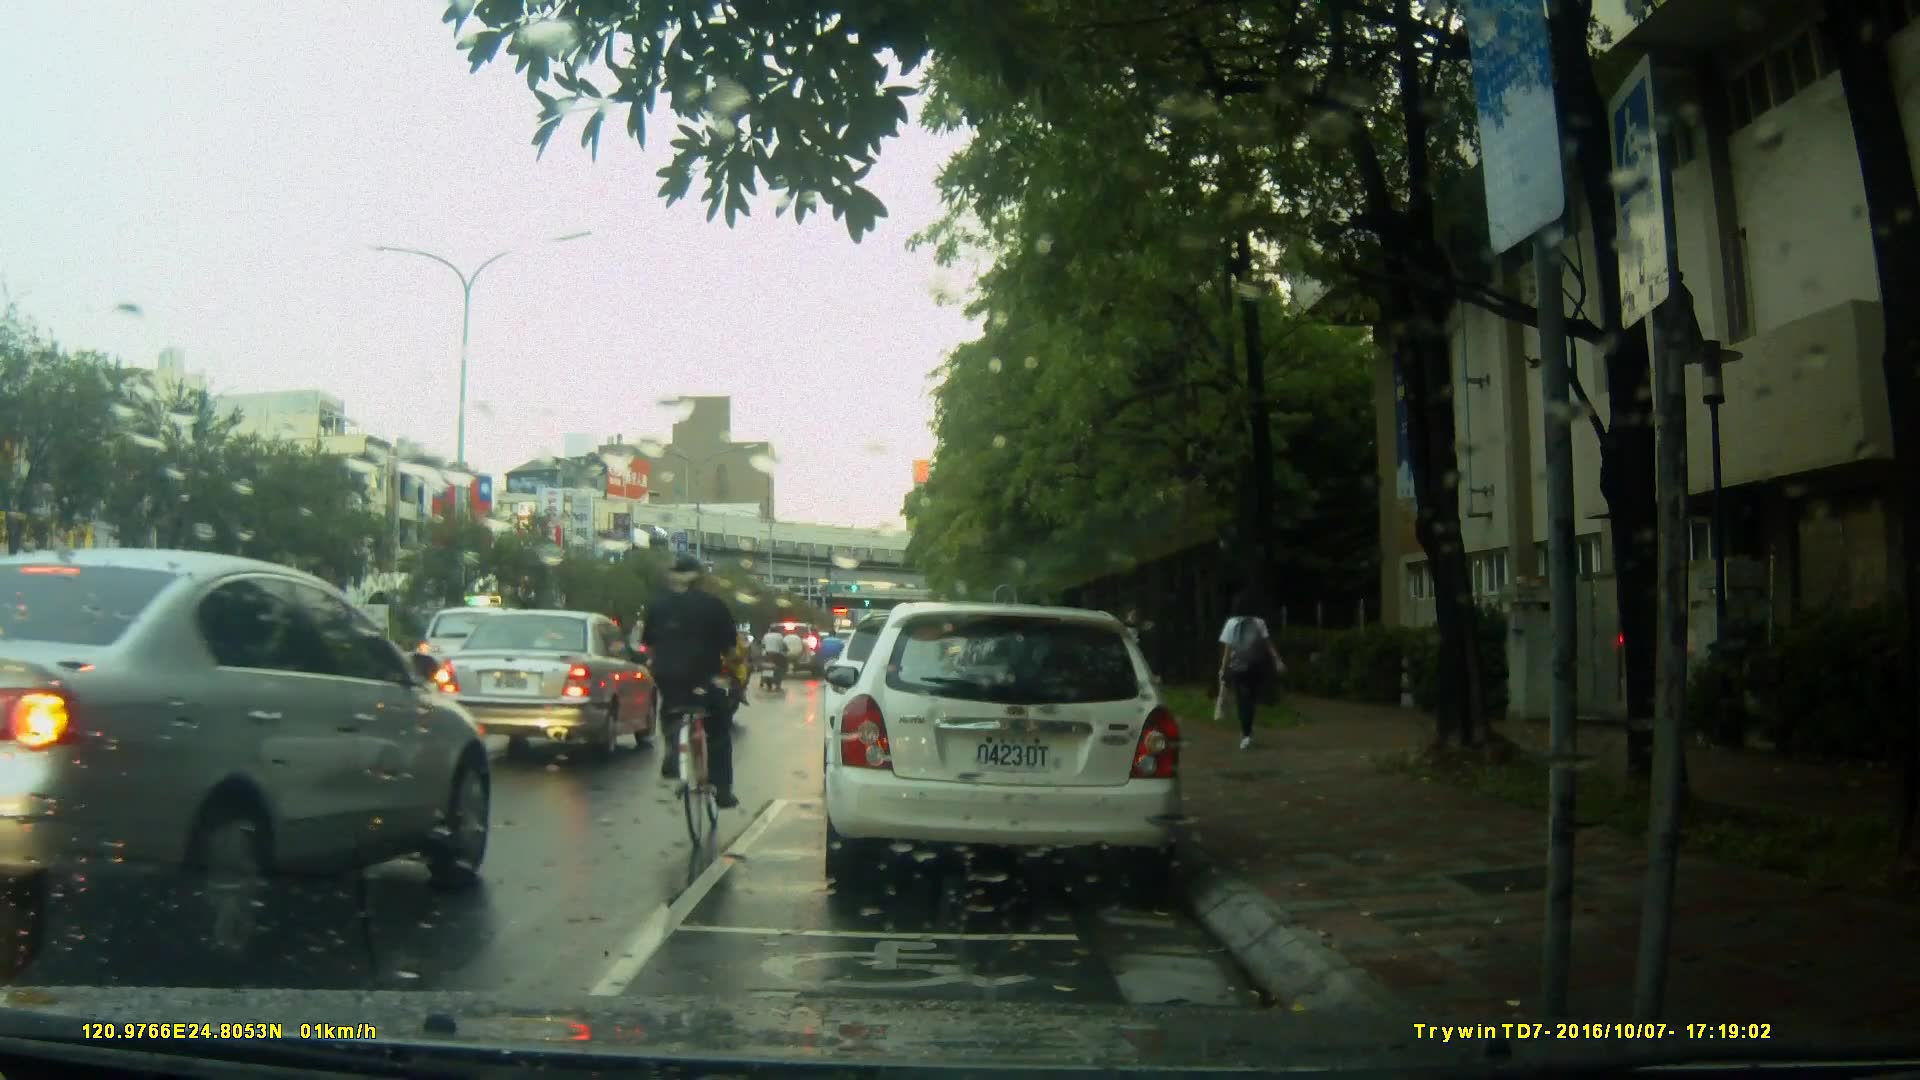pedestrian: (1218, 583, 1279, 752)
rider: (652, 541, 752, 850), (698, 602, 756, 734), (761, 620, 789, 697), (819, 623, 847, 691)
vehicle: (1, 544, 498, 980), (820, 602, 1188, 898), (428, 608, 660, 765)
